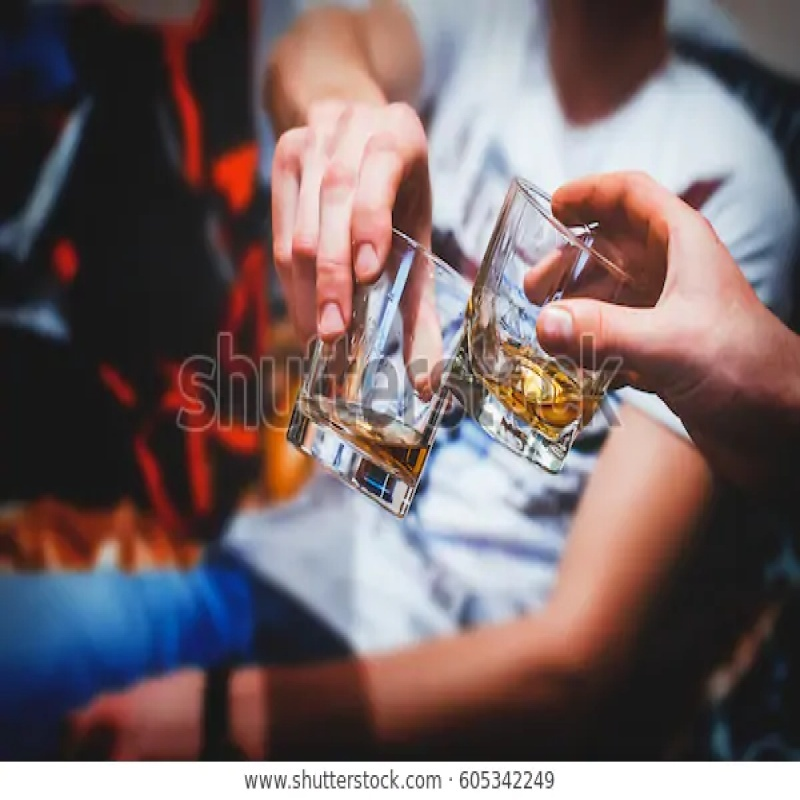whiskey: (297, 227, 472, 514), (445, 176, 605, 471)
